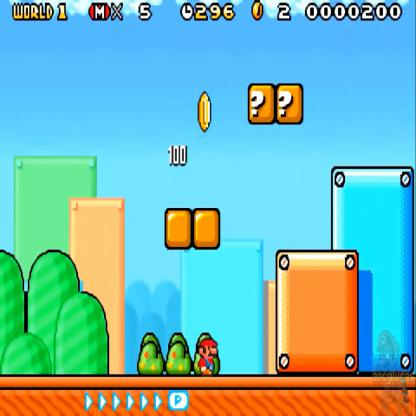Mario: (195, 334, 220, 377)
moneda: (197, 90, 213, 134), (250, 0, 265, 24)
